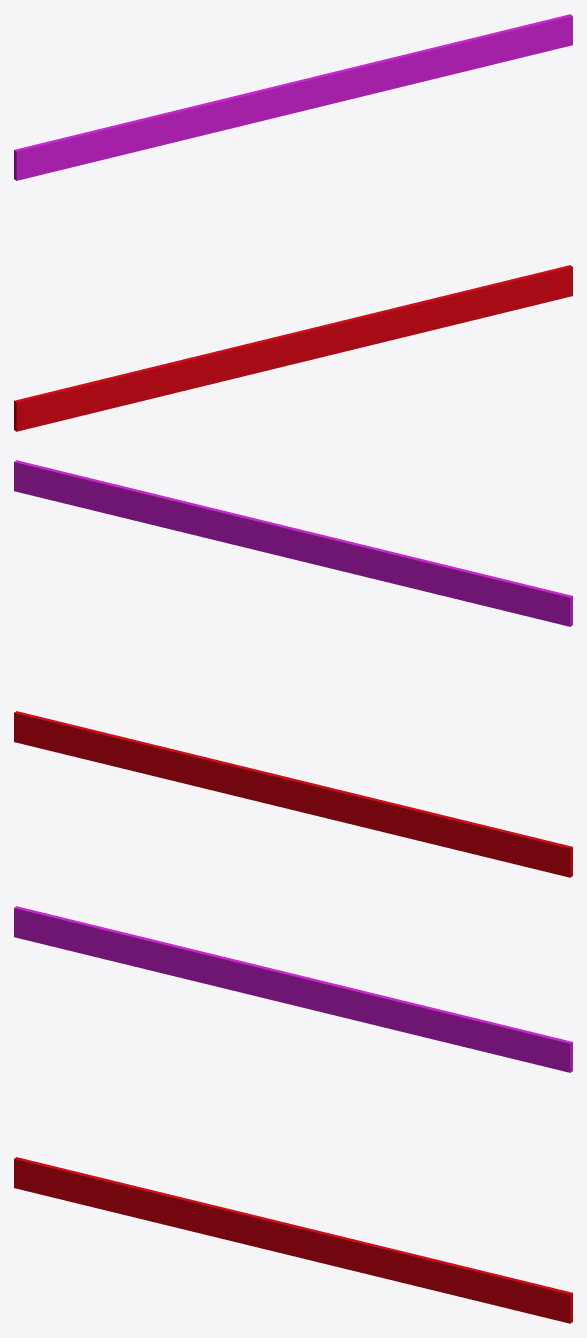
The picture shows the model from 3 angles, top to bottom: view 1: azimuth 30°, elevation 25°; view 2: azimuth 150°, elevation 25°; view 3: azimuth 330°, elevation 25°; orthographic projection.
Visible parts, largest first — view 1: Cube.001, Cube.002; view 2: Cube.001, Cube.002; view 3: Cube.001, Cube.002.
Part boxes in pixels (left/top/right/bottom): Cube.001: left=14, top=14, right=572, bottom=180; Cube.002: left=14, top=265, right=572, bottom=431; Cube.001: left=14, top=460, right=572, bottom=626; Cube.002: left=14, top=711, right=572, bottom=877; Cube.001: left=14, top=906, right=572, bottom=1072; Cube.002: left=14, top=1157, right=572, bottom=1323.
Size of the model in its own units: 10 by 4.81 by 0.0807.
